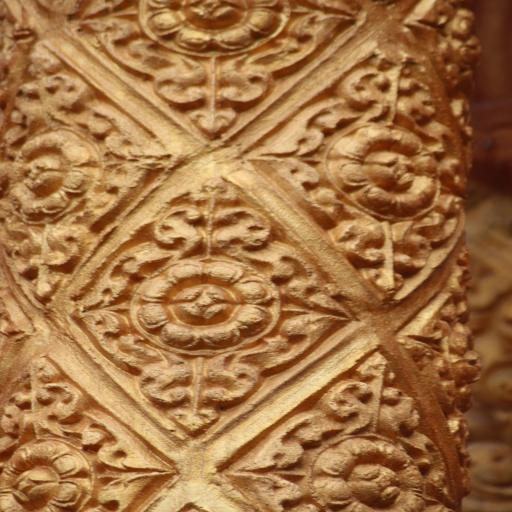hoa: (100, 190, 314, 418), (83, 0, 360, 123), (0, 74, 161, 282), (298, 80, 468, 276), (247, 367, 457, 512), (0, 387, 125, 512), (415, 286, 492, 394)
